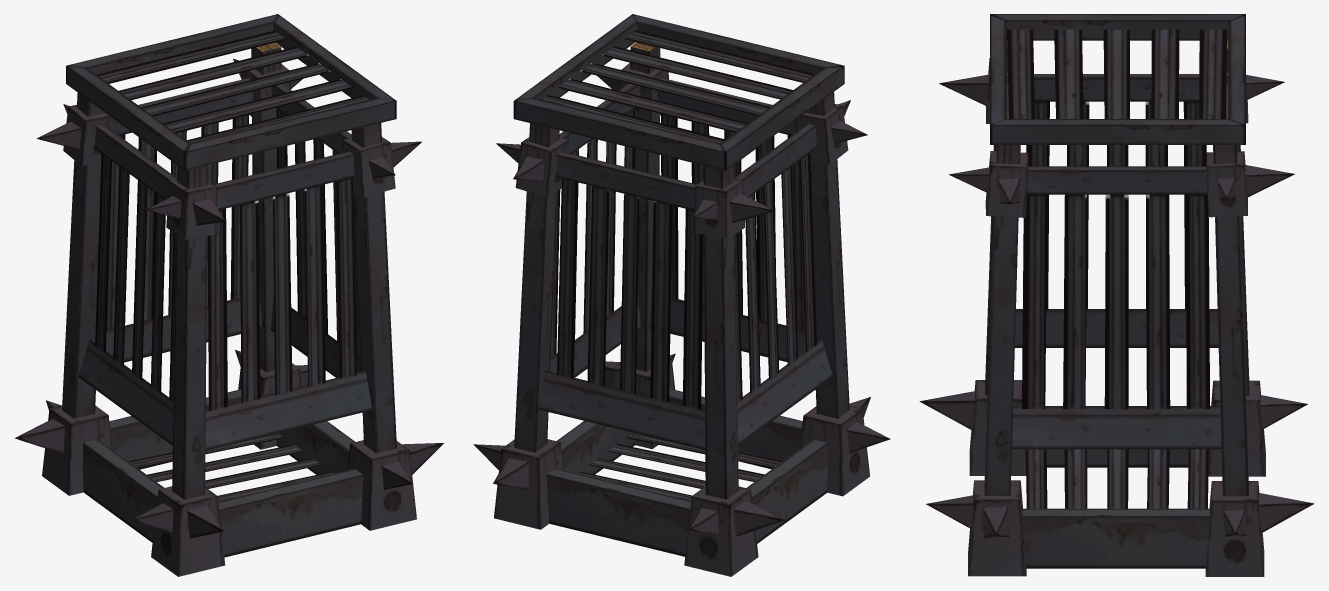
Rendered from 2_DG_LaoLong_01.FBX.
3 renders of one model, left to right at view 1: azimuth 30°, elevation 25°; view 2: azimuth 150°, elevation 25°; view 3: azimuth 270°, elevation 25°, orthographic. The views are drawn at different scales.
Visible parts, largest first — view 1: 2_DG_LaoLong_01; view 2: 2_DG_LaoLong_01; view 3: 2_DG_LaoLong_01.
Part boxes in pixels (x1,y1,x2,y2): 2_DG_LaoLong_01: (15,14,443,576); 2_DG_LaoLong_01: (473,14,890,576); 2_DG_LaoLong_01: (919,14,1314,576).
Bounding box in the file's own units: 408 × 506 × 408.
Materials: 1 (1 with a texture image).
